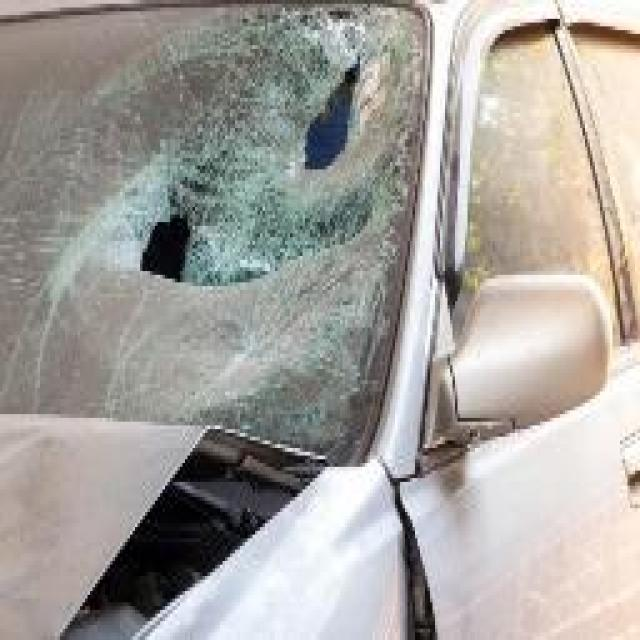Bonnet: (2, 407, 345, 640)
Door: (395, 478, 640, 640)
Windshield: (0, 8, 385, 429)
